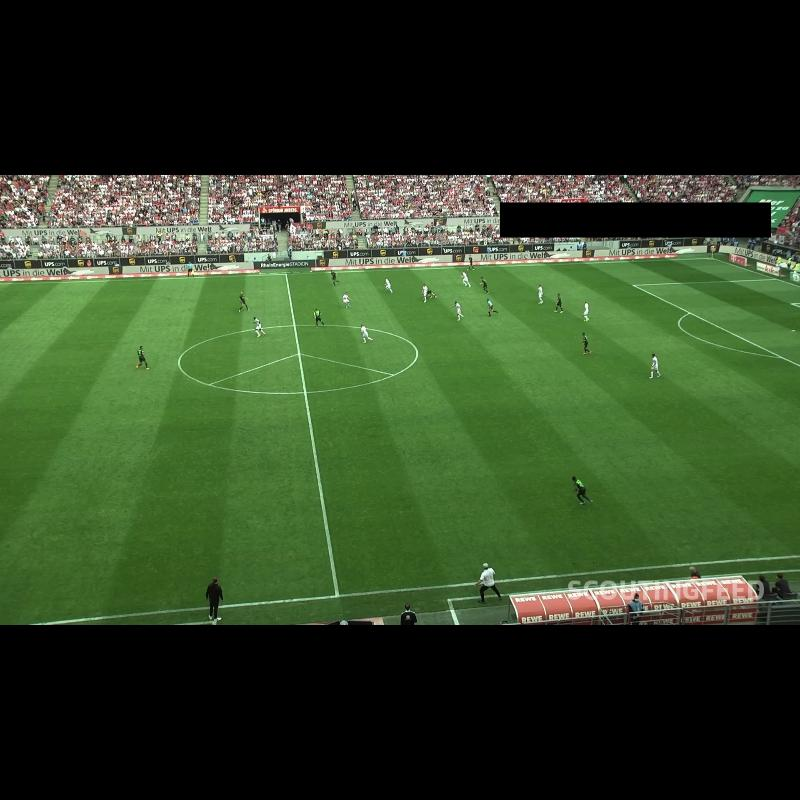cross_recipient_zone: (633, 278, 800, 366)
crossing_player_zone: (501, 258, 774, 288), (716, 409, 800, 471), (0, 283, 59, 309)
pitch: (0, 257, 800, 625)
